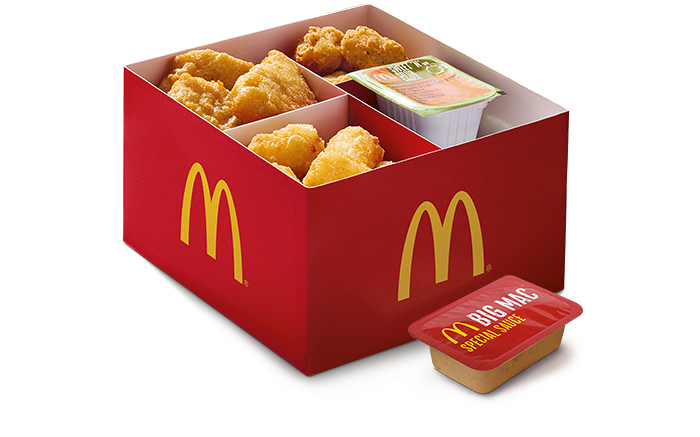mcdonalds: (388, 186, 488, 303), (170, 157, 249, 291)
